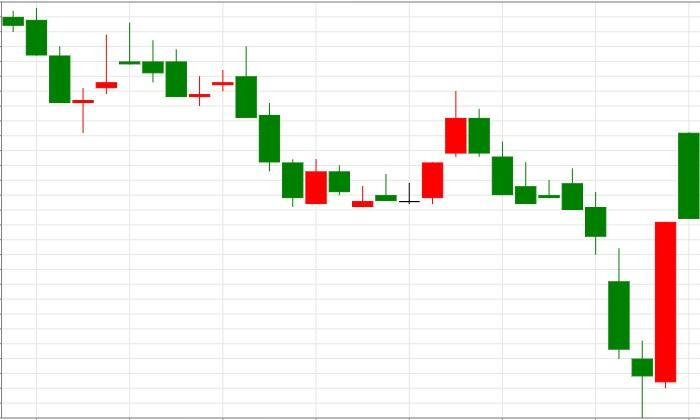three_black_crows_fall: (188, 45, 304, 207)
